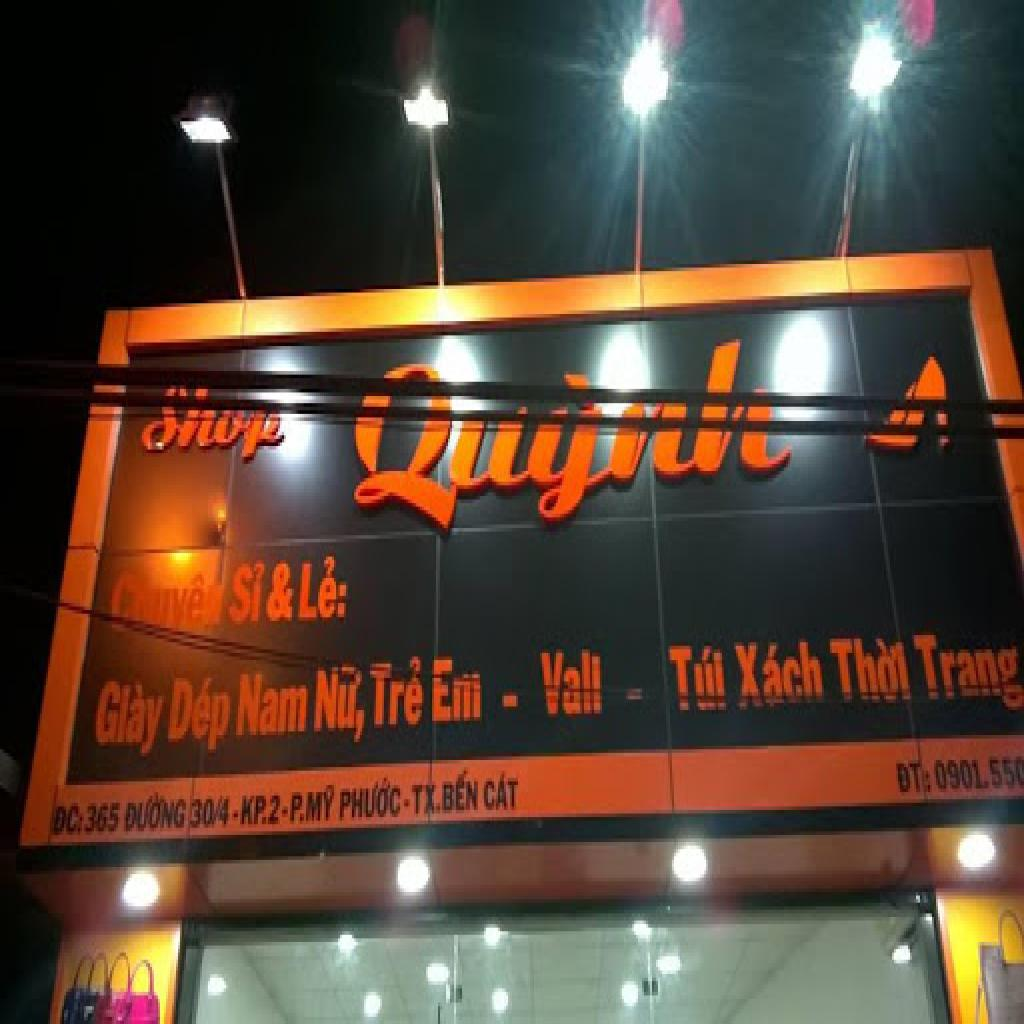text: (344, 328, 810, 539), (140, 378, 294, 475), (910, 617, 1024, 721), (728, 621, 832, 721), (822, 621, 920, 721), (104, 564, 230, 638), (94, 667, 172, 767), (158, 671, 234, 760), (232, 660, 308, 746), (536, 646, 610, 728), (666, 635, 732, 724), (368, 646, 426, 746), (312, 653, 366, 760), (428, 646, 486, 731), (296, 546, 352, 628), (226, 550, 270, 632), (122, 788, 190, 838), (338, 774, 404, 824), (260, 557, 298, 628), (442, 764, 482, 824), (482, 764, 524, 820), (892, 753, 936, 803), (188, 788, 232, 832), (304, 782, 338, 832), (410, 778, 444, 824), (84, 800, 124, 838), (240, 788, 272, 835), (50, 800, 86, 838), (498, 685, 524, 717), (288, 788, 308, 828), (622, 678, 646, 710), (268, 792, 284, 828), (232, 806, 242, 824), (402, 792, 412, 810), (282, 802, 290, 820)
